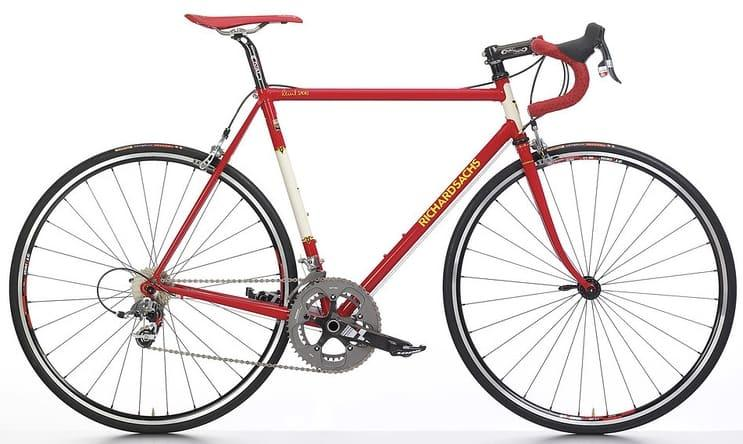bicycle: (7, 1, 742, 441)
